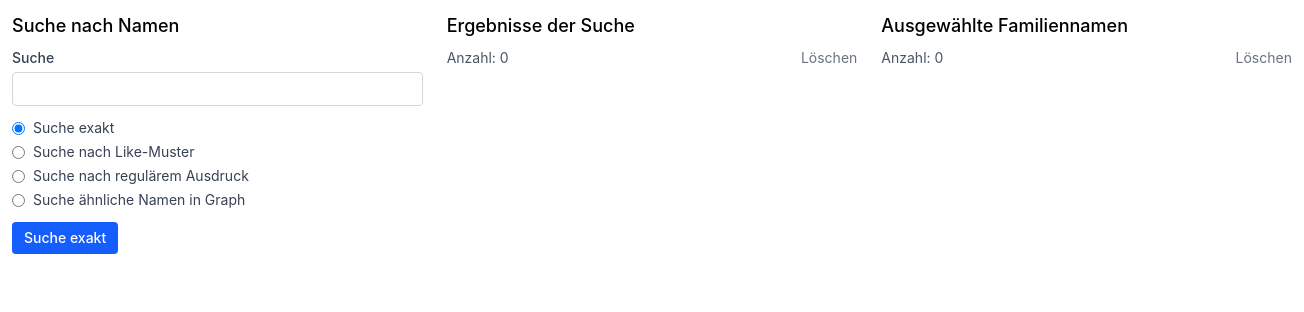
Test case: SearchPanel › warns instead of searching when a like pattern is shorter than 4 characters
Click the radio button labelled "Suche nach Like-Muster": (18, 152) [12,146,25,158]
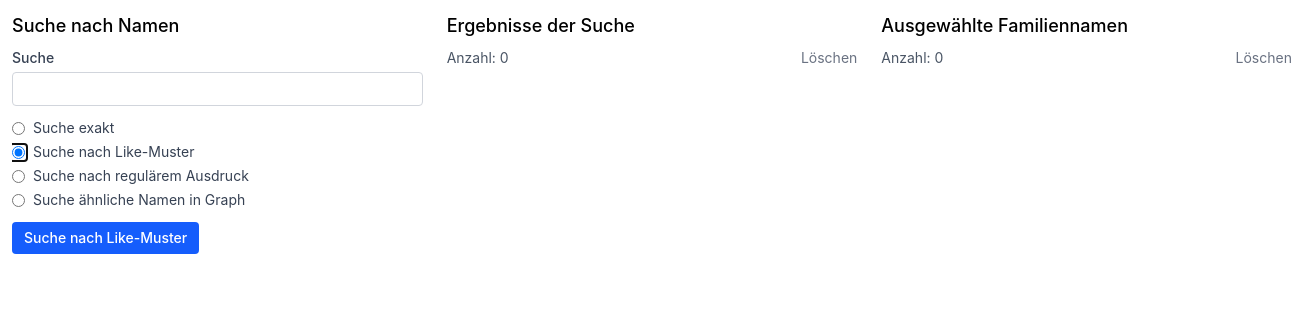
In the field labelled "Suche": (217, 89) [12,72,423,106], type "abc"
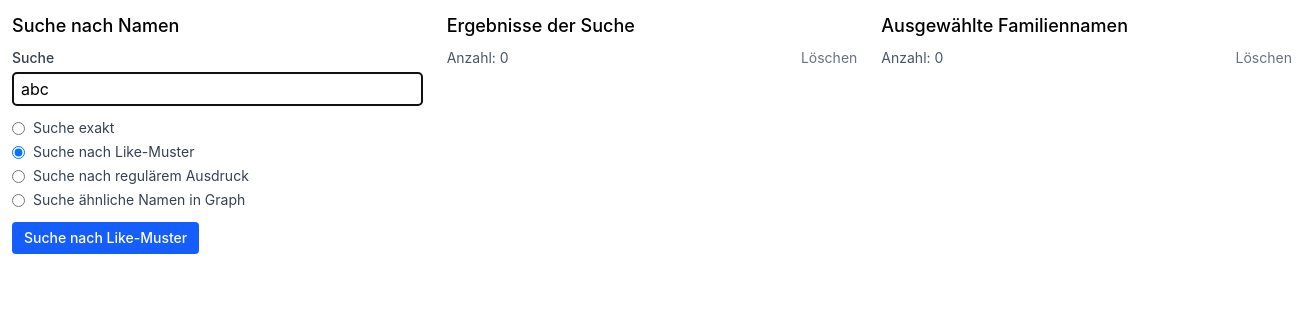
Click the button "Suche nach Like-Muster": (106, 238) [12,222,199,254]
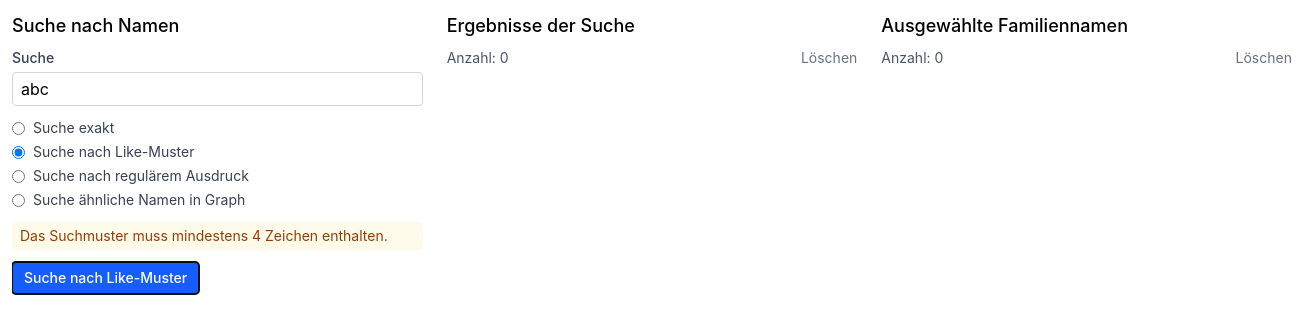
Expected: the message shows "mindestens 4 Zeichen", [20,227,388,244]
